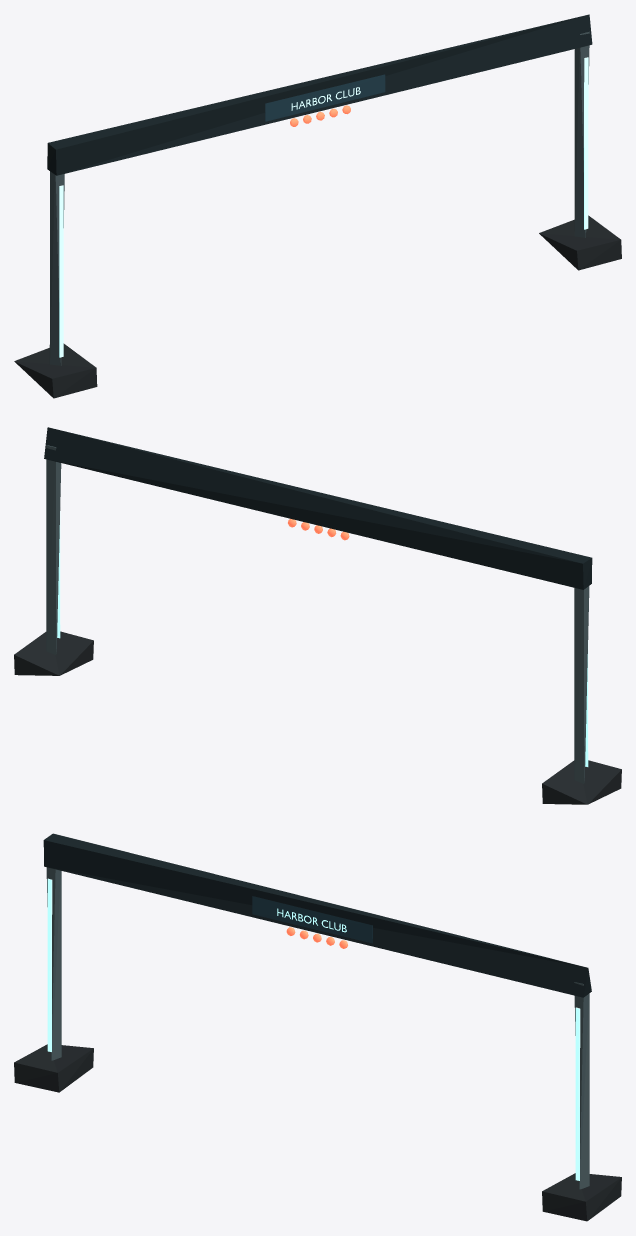
File: club-race-gate.low.glb
The picture shows the model from 3 angles, top to bottom: view 1: azimuth 30°, elevation 25°; view 2: azimuth 150°, elevation 25°; view 3: azimuth 330°, elevation 25°; orthographic projection.
Parts seen in each view (by area): view 1: geometry:body:3, geometry:body:0, geometry:body:1, geometry:body:4, geometry:body:2; view 2: geometry:body:3, geometry:body:1, geometry:body:0, geometry:body:2; view 3: geometry:body:3, geometry:body:0, geometry:body:1, geometry:body:4, geometry:body:2.
Part boxes in pixels (<box>): geometry:body:3: <box>47,14,592,175</box>; geometry:body:0: <box>14,215,621,398</box>; geometry:body:1: <box>49,31,589,365</box>; geometry:body:4: <box>265,74,385,121</box>; geometry:body:2: <box>59,57,588,357</box>; geometry:body:3: <box>44,427,592,589</box>; geometry:body:1: <box>46,445,589,783</box>; geometry:body:0: <box>14,631,621,804</box>; geometry:body:2: <box>57,511,588,766</box>; geometry:body:3: <box>43,833,591,997</box>; geometry:body:0: <box>14,1044,621,1221</box>; geometry:body:1: <box>46,867,589,1189</box>; geometry:body:4: <box>252,896,372,943</box>; geometry:body:2: <box>47,878,580,1180</box>.
Bounding box in the file's own units: 10.46 × 4.14 × 1.16.
